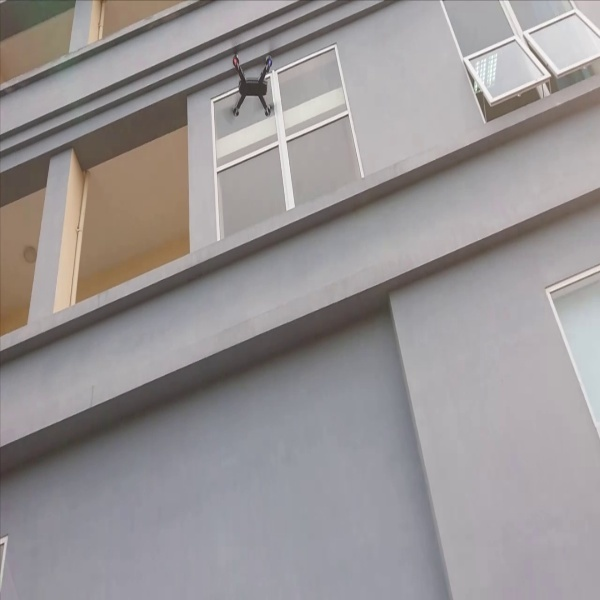drone: (217, 44, 293, 132)
